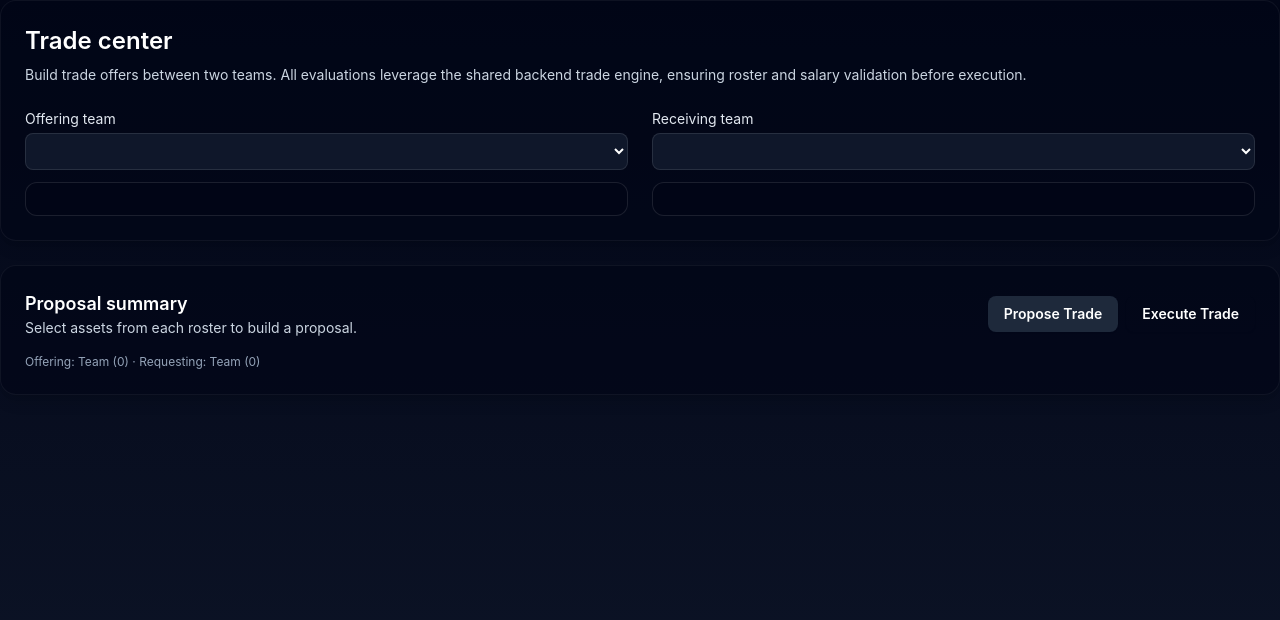
Test: TradeCenterPage › requires both teams to provide assets
Click the button "Propose Trade" at [1053, 314], box left=988, top=296, right=1118, bottom=332
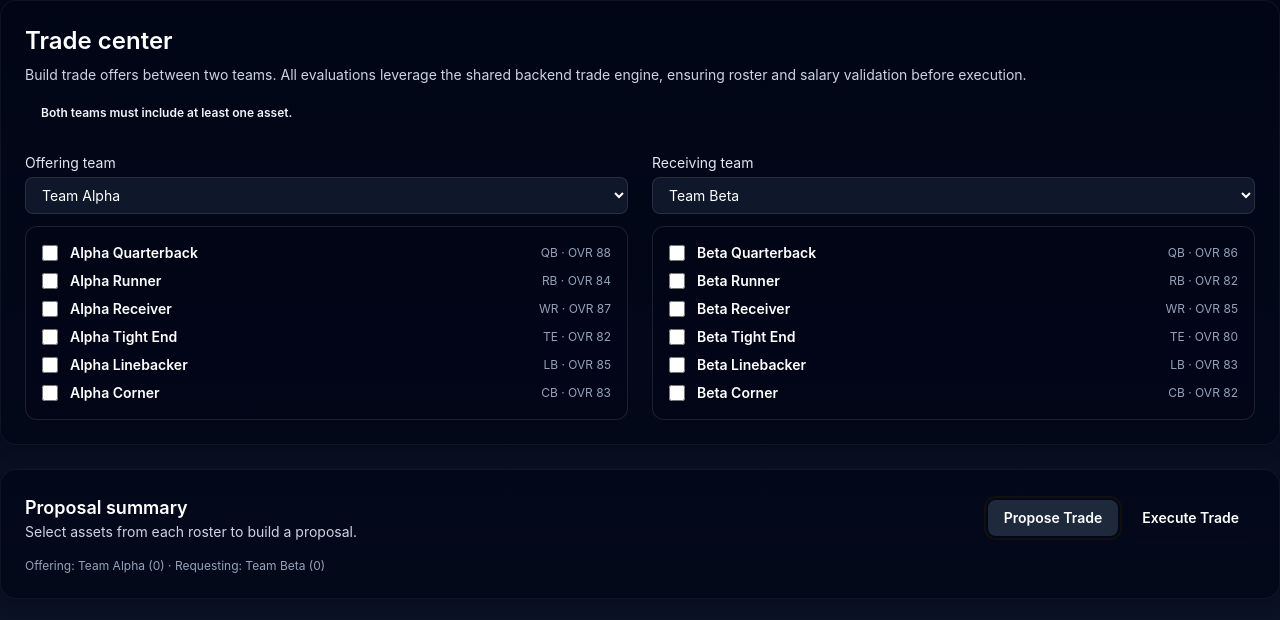
Now the text "Both teams must include at least one asset." is shown, box left=41, top=105, right=292, bottom=120
